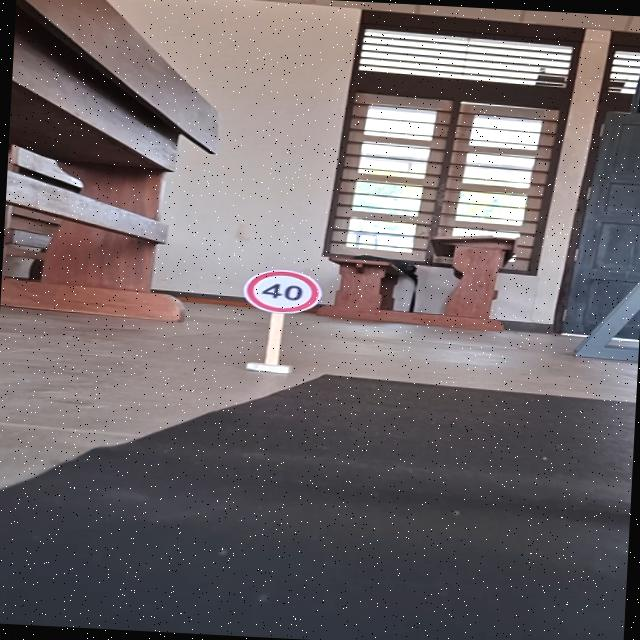Speed40: (240, 266, 324, 318)
